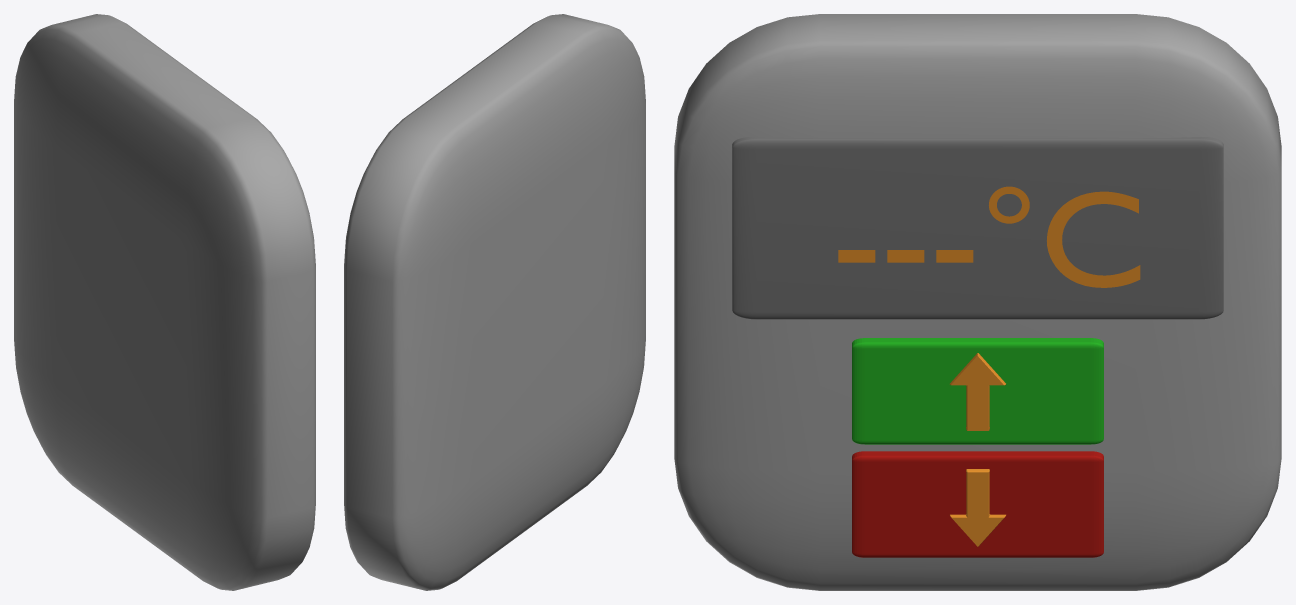
Rendered from TempSensor.fbx.
The picture shows the model from 3 angles, left to right: view 1: azimuth 30°, elevation 25°; view 2: azimuth 150°, elevation 25°; view 3: azimuth 270°, elevation 25°; orthographic projection. The views are drawn at different scales.
Visible parts, largest first — view 1: Cube; view 2: Cube; view 3: Cube, Cube.001, Cube.003, Cube.002, Text, Grid, Grid.001.
Boxes of the visible parts, x1=… form: Cube: x1=14, y1=14, x2=315, y2=590; Cube: x1=344, y1=14, x2=645, y2=590; Cube: x1=674, y1=14, x2=1281, y2=590; Cube.001: x1=732, y1=137, x2=1223, y2=319; Cube.003: x1=852, y1=451, x2=1103, y2=557; Cube.002: x1=852, y1=338, x2=1103, y2=444; Text: x1=838, y1=186, x2=1140, y2=287; Grid: x1=950, y1=353, x2=1005, y2=430; Grid.001: x1=950, y1=469, x2=1005, y2=546.
Bounding box in the file's own units: 4.6 × 20 × 20.
